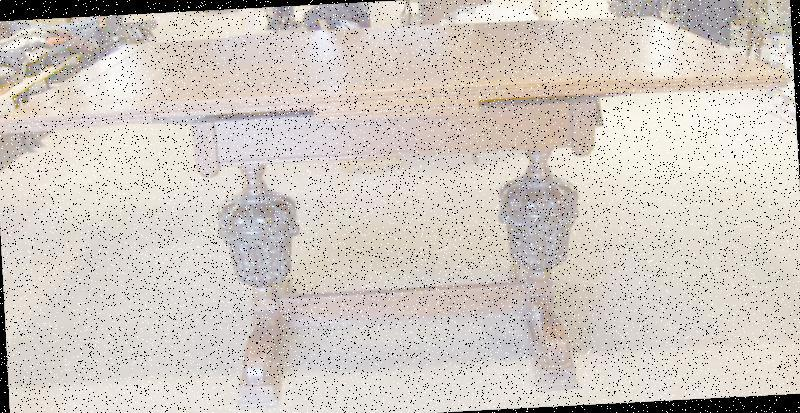Mesa: (0, 12, 798, 412)
